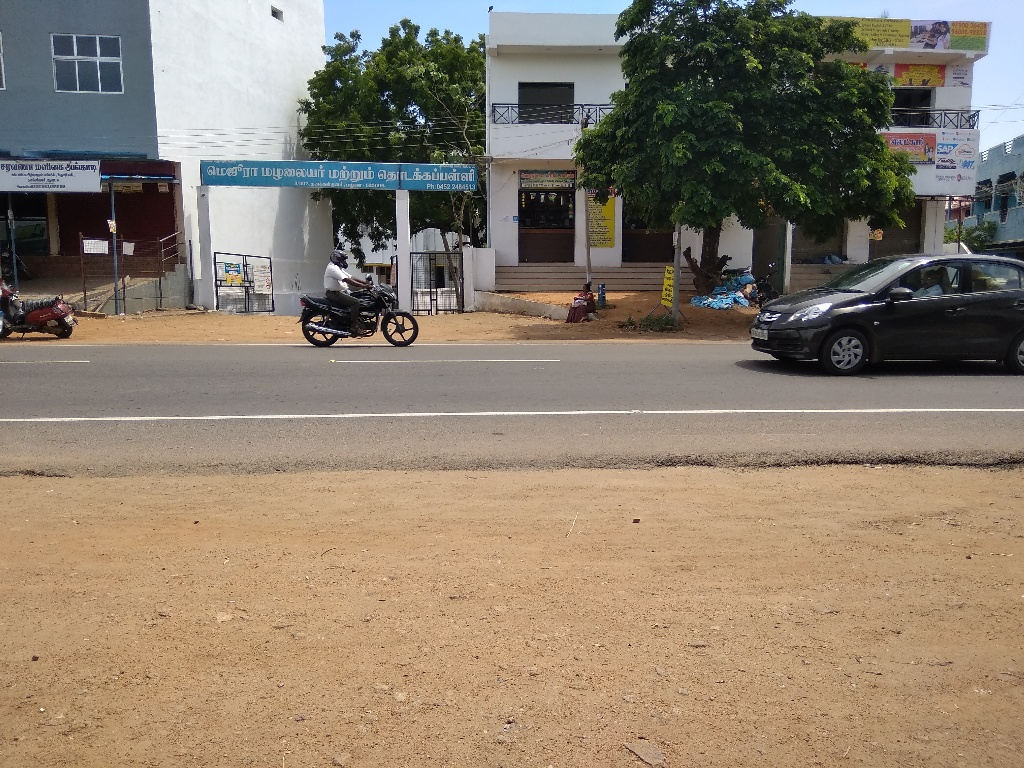biker: (289, 225, 427, 356)
helmet: (322, 239, 358, 275)
